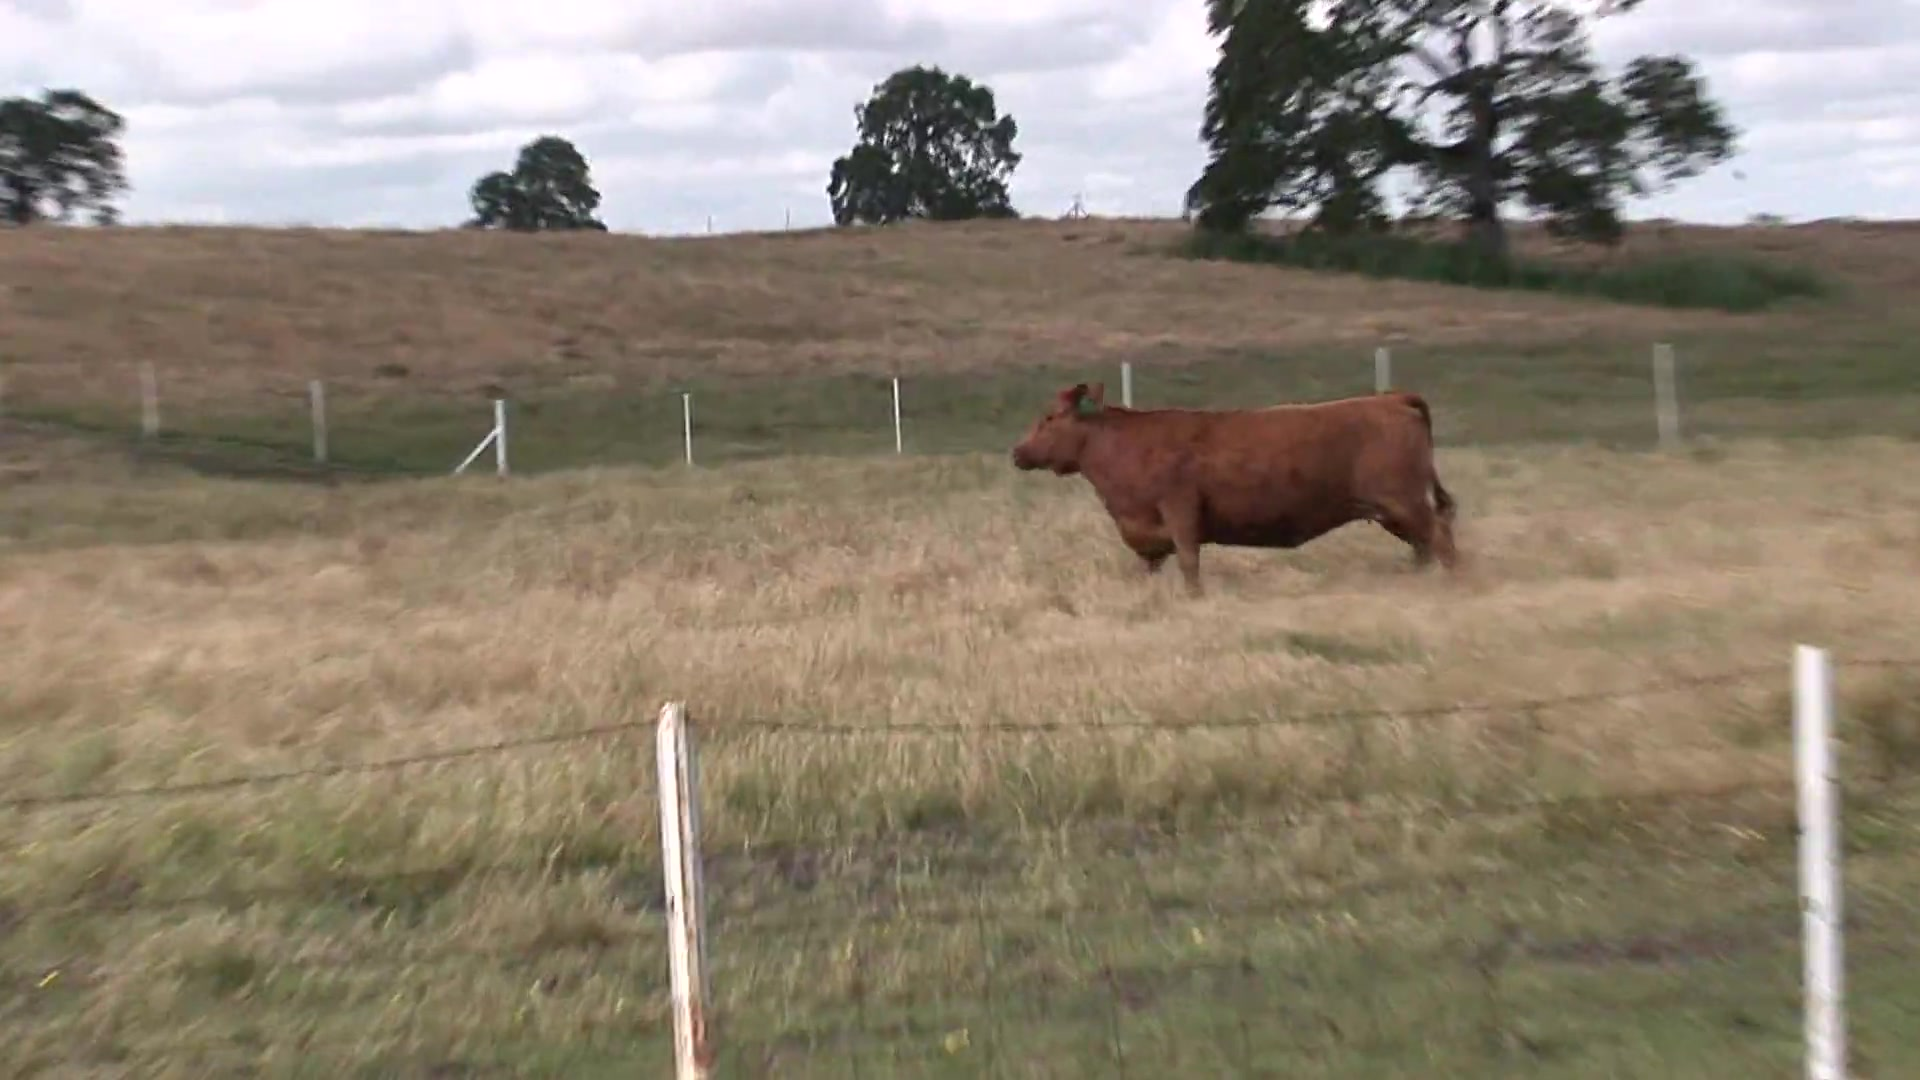cow: (1006, 384, 1462, 591)
